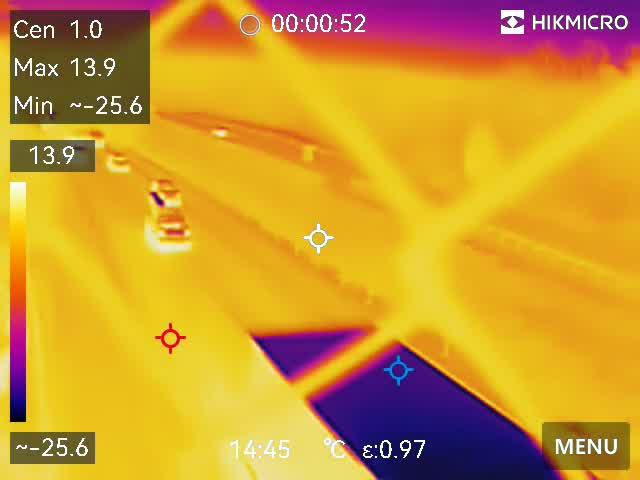vehicle: (142, 201, 191, 249), (150, 175, 178, 210), (106, 151, 129, 174), (88, 125, 107, 149), (210, 124, 228, 137)
